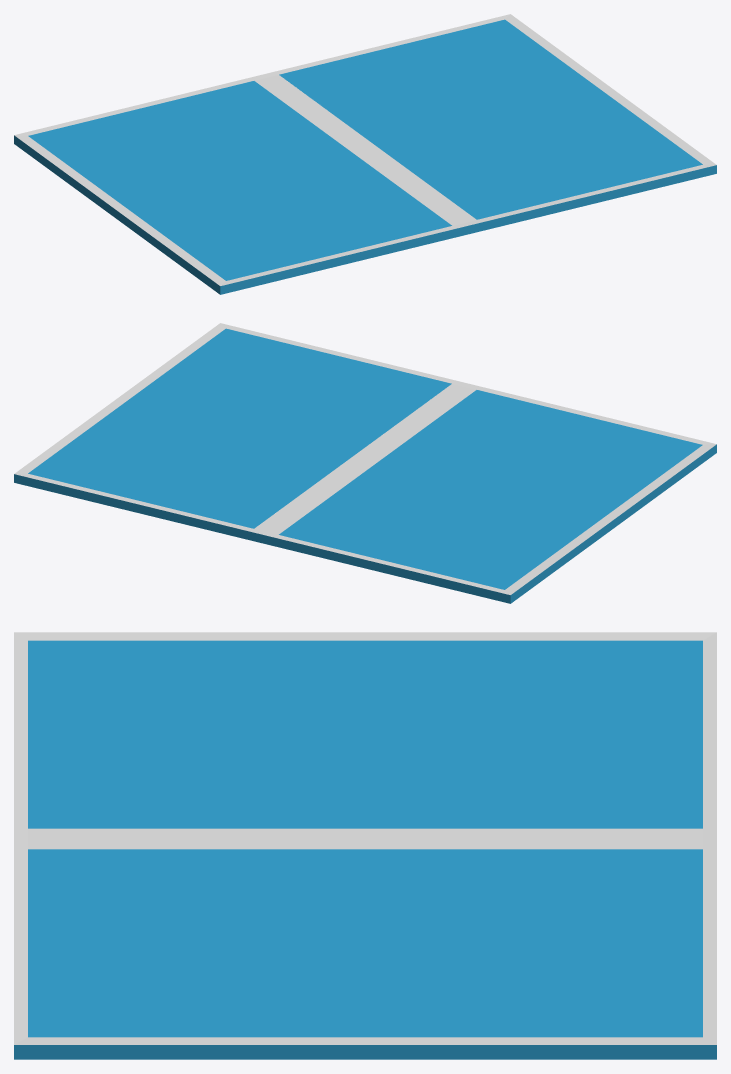
Rendered from coutfloor.fbx.
3 renders of one model, top to bottom at view 1: azimuth 30°, elevation 25°; view 2: azimuth 150°, elevation 25°; view 3: azimuth 270°, elevation 25°, orthographic. The views are drawn at different scales.
Visible parts, largest first — view 1: Cube; view 2: Cube; view 3: Cube.
Part boxes in pixels (bbox=[...]): Cube: bbox=[14, 14, 716, 294]; Cube: bbox=[14, 323, 716, 603]; Cube: bbox=[14, 632, 716, 1059].
Size of the model in its own units: 2990 by 49.96 by 2152.
